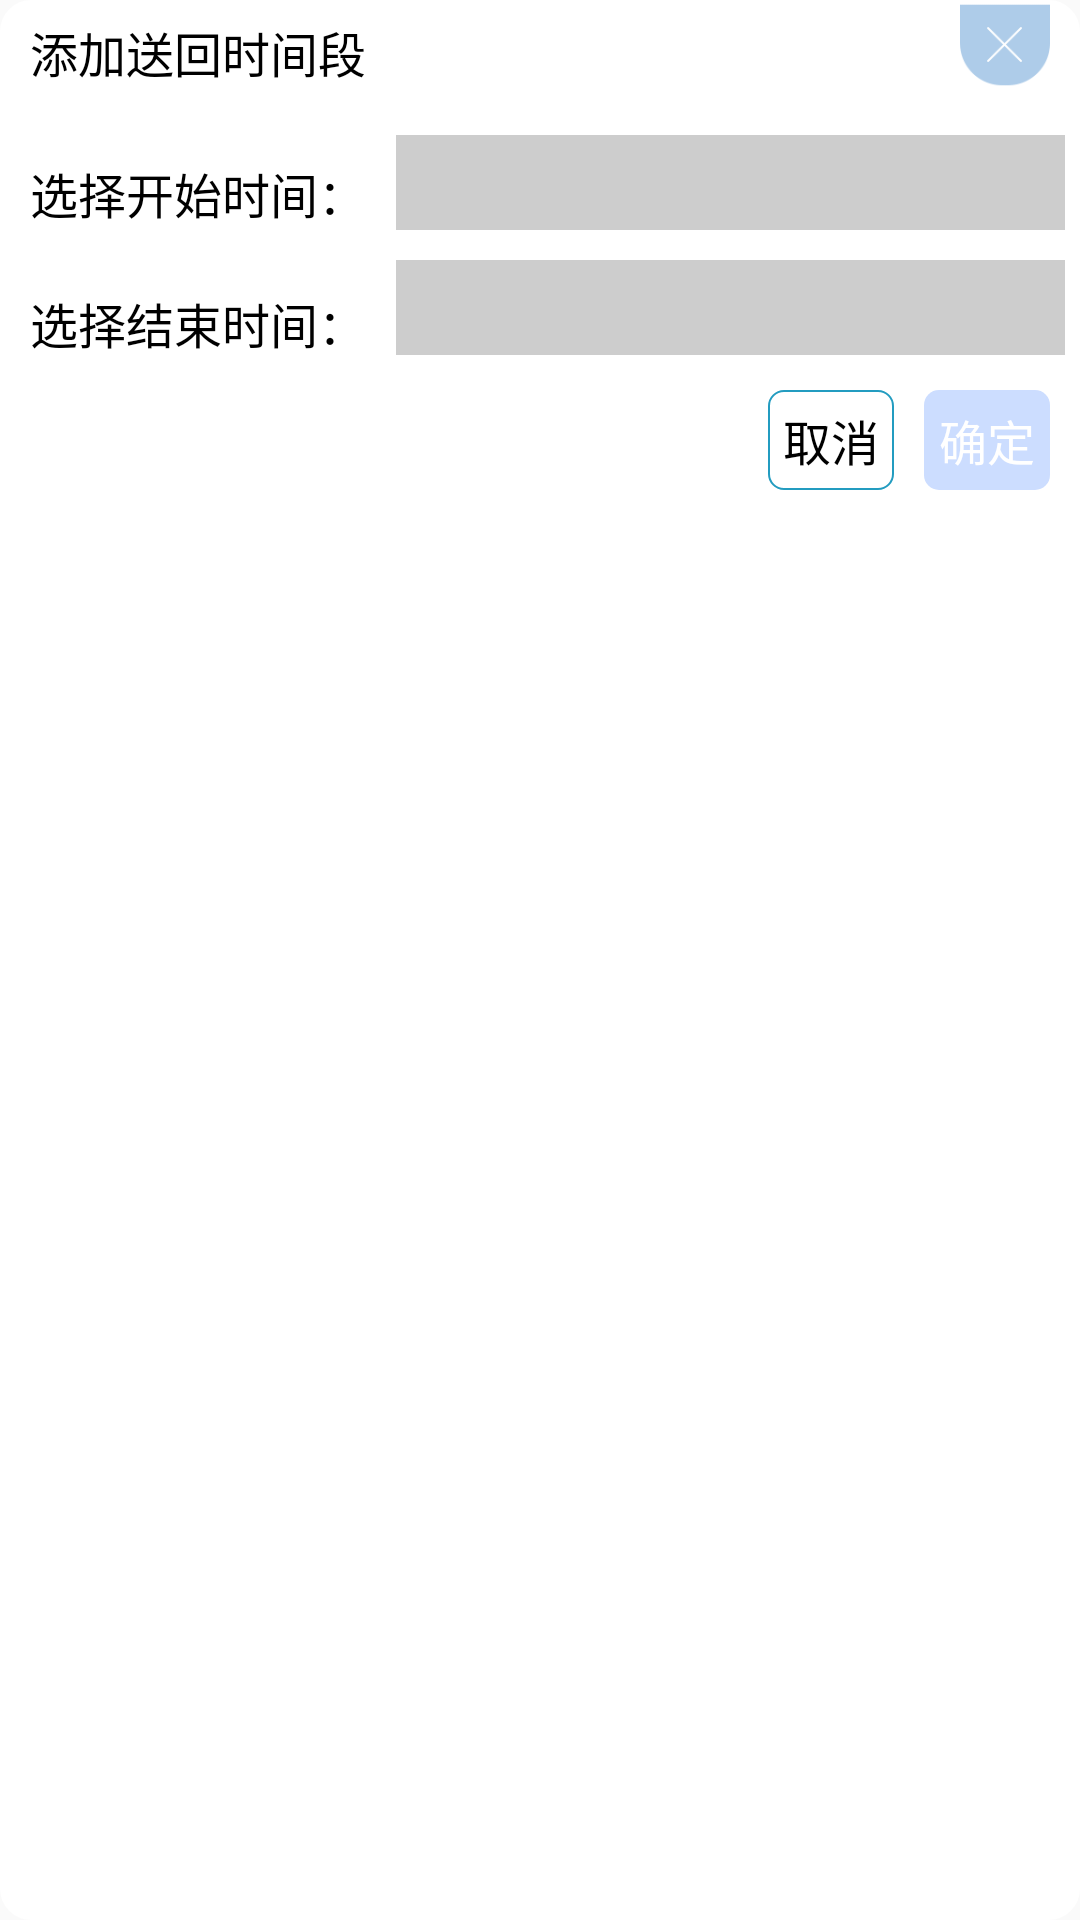

Named icons in this screenshot (1080*1920) and their bounding boxes, box=[x1, y1, x2, y2]:
cancel: box=[960, 4, 1050, 86]
